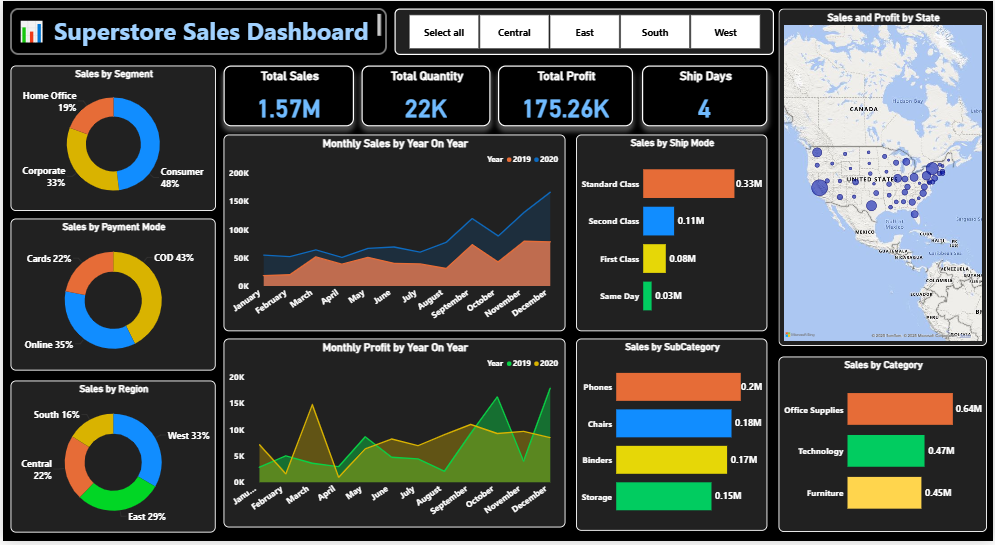

The dashboard page shown, as its layout file describes it:
{"tool":"powerbi","page":{"name":"Dashboard","canvas":[2200,1200],"ordinal":0},"visuals":[{"type":"clusteredBarChart","title":"Sales by Category","fields":{"Category":["SuperStore_Sales_Dataset.Category"],"Y":["Sum(SuperStore_Sales_Dataset.Sales)"]},"box":[1723.3,790,463.3,390],"z":0},{"type":"textbox","box":[16.7,16.7,835,101.7],"z":1000},{"type":"clusteredBarChart","title":"Sales by SubCategory","fields":{"Y":["Sum(SuperStore_Sales_Dataset.Sales)"],"Category":["SuperStore_Sales_Dataset.Sub-Category"]},"box":[1272.5,750,425,427.5],"z":2000},{"type":"clusteredBarChart","title":"Sales by Ship Mode","fields":{"Y":["Sum(SuperStore_Sales_Dataset.Sales)"],"Category":["SuperStore_Sales_Dataset.Ship Mode"]},"box":[1272.5,295,425,437.5],"z":3000},{"type":"areaChart","title":"Monthly Sales by Year On Year","fields":{"Category":["SuperStore_Sales_Dataset.Order Date.Variation.Date Hierarchy.Month","SuperStore_Sales_Dataset.Order Date.Variation.Date Hierarchy.Day"],"Y":["Sum(SuperStore_Sales_Dataset.Sales)"],"Series":["SuperStore_Sales_Dataset.Order Date.Variation.Date Hierarchy.Year"]},"box":[490,295,760,437.5],"z":4000},{"type":"areaChart","title":"Monthly Profit by Year On Year","fields":{"Category":["SuperStore_Sales_Dataset.Order Date.Variation.Date Hierarchy.Month","SuperStore_Sales_Dataset.Order Date.Variation.Date Hierarchy.Day"],"Series":["SuperStore_Sales_Dataset.Order Date.Variation.Date Hierarchy.Year"],"Y":["Sum(SuperStore_Sales_Dataset.Profit)"]},"box":[490,750,760,420],"z":5000},{"type":"map","title":"Sales and Profit by State","fields":{"Category":["SuperStore_Sales_Dataset.State"],"Size":["Sum(SuperStore_Sales_Dataset.Sales)"]},"box":[1723.3,16.7,463.3,750],"z":6000},{"type":"donutChart","title":"Sales by Segment","fields":{"Category":["SuperStore_Sales_Dataset.Segment"],"Y":["Sum(SuperStore_Sales_Dataset.Sales)"]},"box":[16.7,143.3,456.7,323.3],"z":7000},{"type":"donutChart","title":"Sales by Payment Mode","fields":{"Y":["Sum(SuperStore_Sales_Dataset.Sales)"],"Category":["SuperStore_Sales_Dataset.Payment Mode"]},"box":[16,484,456,338],"z":8000},{"type":"donutChart","title":"Sales by Region","fields":{"Y":["Sum(SuperStore_Sales_Dataset.Sales)"],"Category":["SuperStore_Sales_Dataset.Region"]},"box":[16,842,456,338],"z":9000},{"type":"slicer","fields":{"Values":["SuperStore_Sales_Dataset.Region"]},"box":[870,16.7,843.3,103.3],"z":10000},{"type":"cardVisual","title":"Total Sales","fields":{"Data":["Sum(SuperStore_Sales_Dataset.Sales)"]},"box":[490,143.3,290,135],"z":11000},{"type":"cardVisual","title":"Total Quantity","fields":{"Data":["Sum(SuperStore_Sales_Dataset.Quantity)"]},"box":[796.7,143.3,286.7,135],"z":12000},{"type":"cardVisual","title":"Total Profit","fields":{"Data":["Sum(SuperStore_Sales_Dataset.Profit)"]},"box":[1100,143.3,300,135],"z":13000},{"type":"cardVisual","title":"Ship Days","fields":{"Data":["Avg(SuperStore_Sales_Dataset.AvgDelivery)"]},"box":[1420,143.3,278.3,135],"z":14000}]}

Visuals, with their boxes in screenshot pixels (x1, y1, x2, y2), scaled from the page's 2200x1200 canvas onto the 995x545 screenshot:
"Sales by Category" clusteredBarChart: <region>779, 359, 989, 536</region>
textbox: <region>8, 8, 385, 54</region>
"Sales by SubCategory" clusteredBarChart: <region>576, 341, 768, 535</region>
"Sales by Ship Mode" clusteredBarChart: <region>576, 134, 768, 333</region>
"Monthly Sales by Year On Year" areaChart: <region>222, 134, 565, 333</region>
"Monthly Profit by Year On Year" areaChart: <region>222, 341, 565, 531</region>
"Sales and Profit by State" map: <region>779, 8, 989, 348</region>
"Sales by Segment" donutChart: <region>8, 65, 214, 212</region>
"Sales by Payment Mode" donutChart: <region>7, 220, 213, 373</region>
"Sales by Region" donutChart: <region>7, 382, 213, 536</region>
slicer - SuperStore_Sales_Dataset.Region: <region>393, 8, 775, 54</region>
"Total Sales" cardVisual: <region>222, 65, 353, 126</region>
"Total Quantity" cardVisual: <region>360, 65, 490, 126</region>
"Total Profit" cardVisual: <region>498, 65, 633, 126</region>
"Ship Days" cardVisual: <region>642, 65, 768, 126</region>
